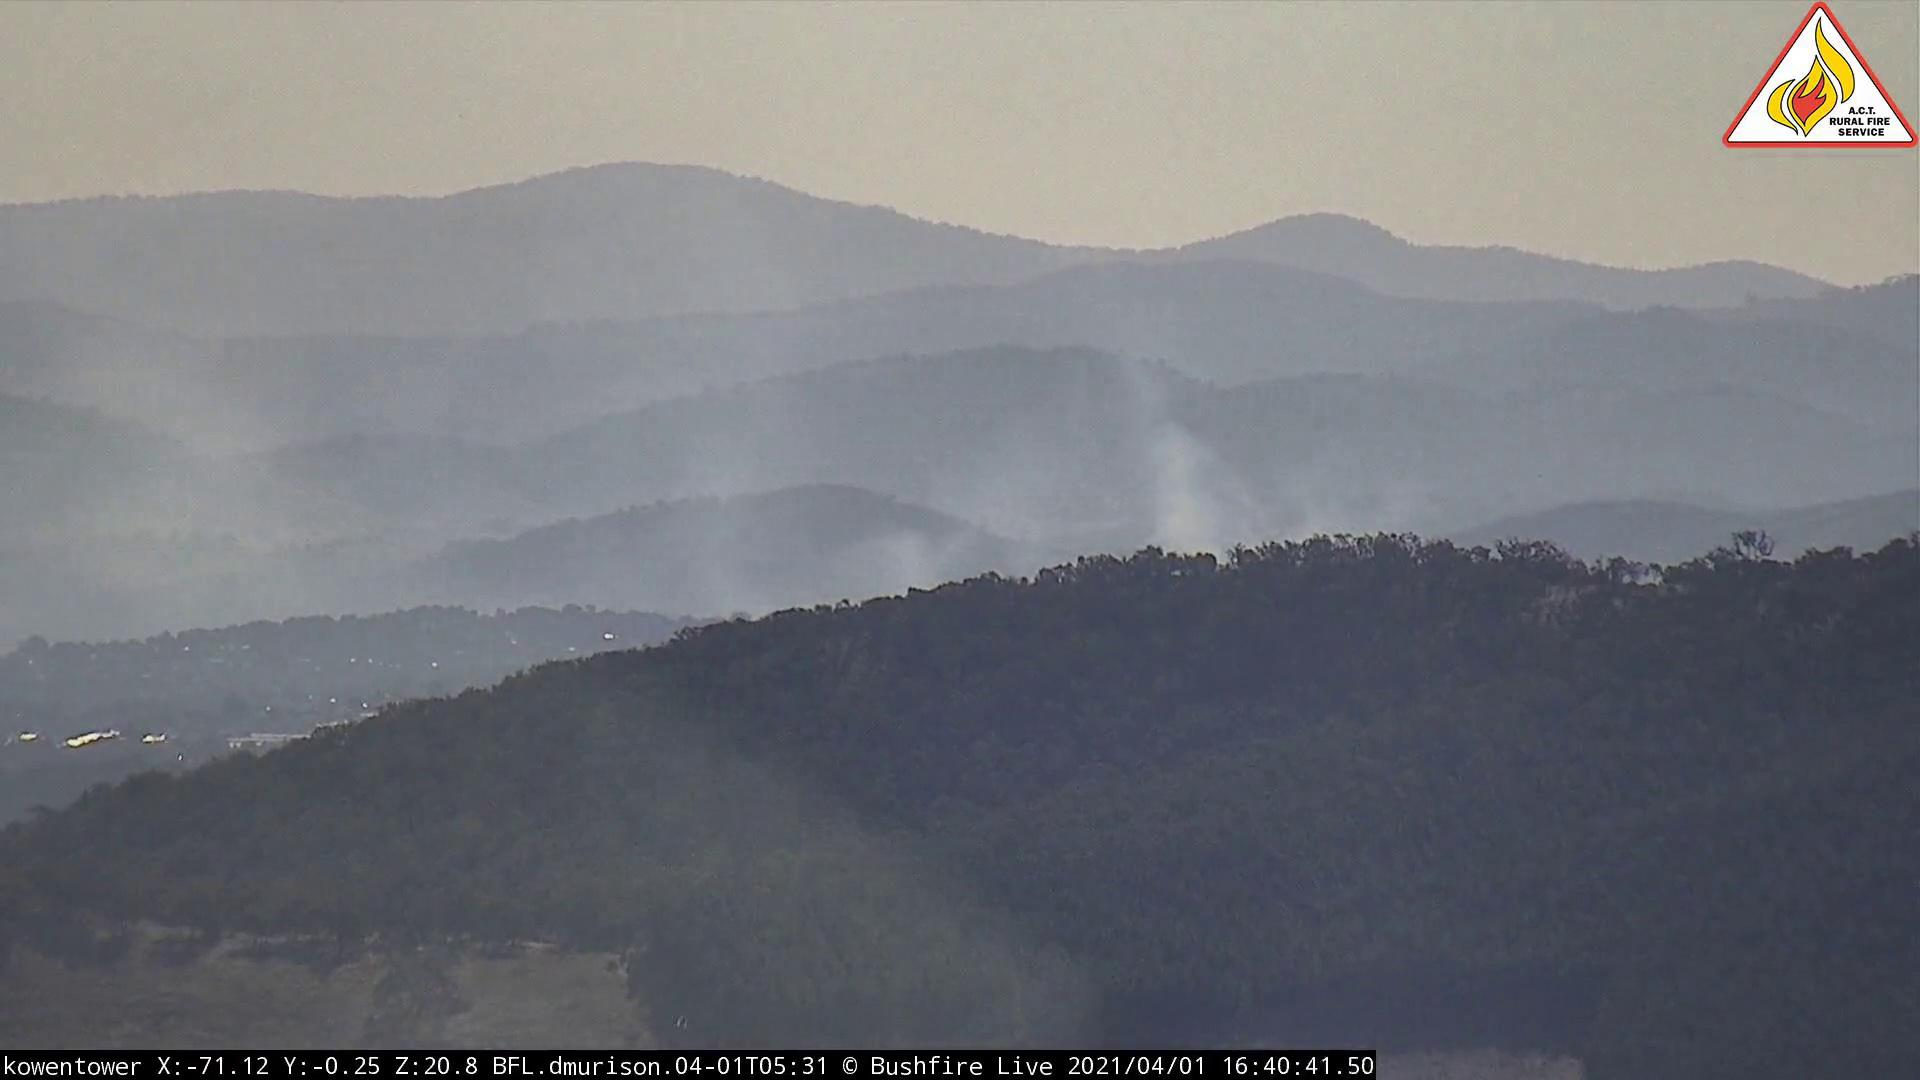Smoke: (579, 200, 1422, 633)
